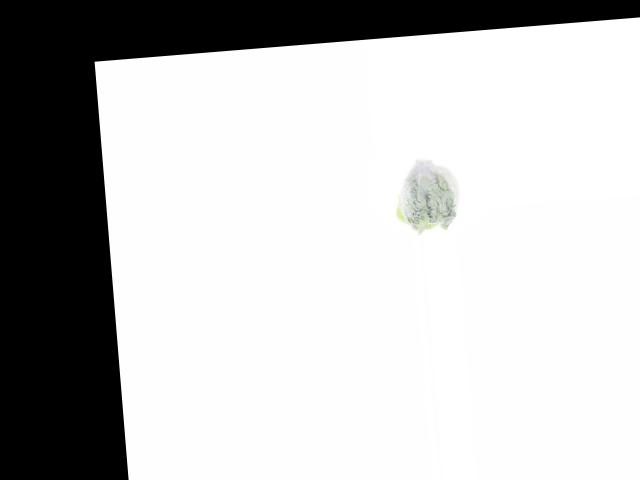lettuce: (388, 156, 464, 235)
